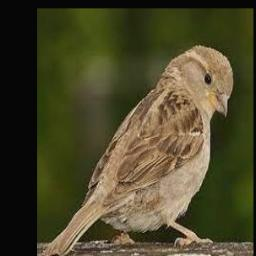Sparrow: (43, 45, 232, 256)
